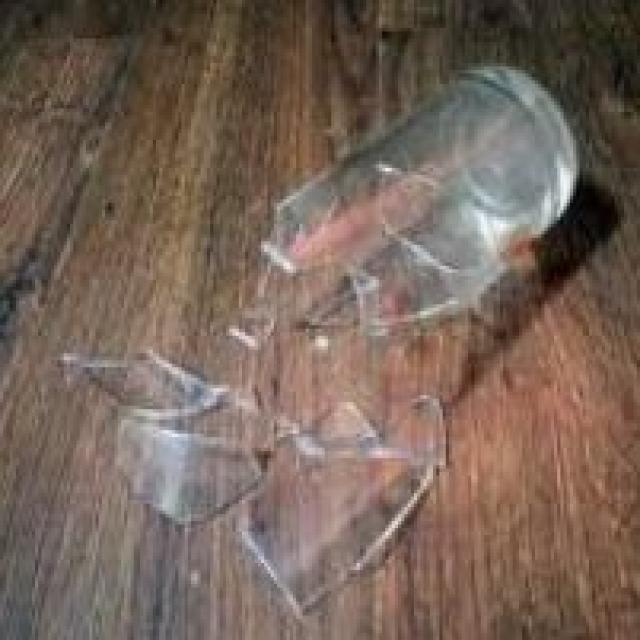electronic: (59, 62, 590, 614)
